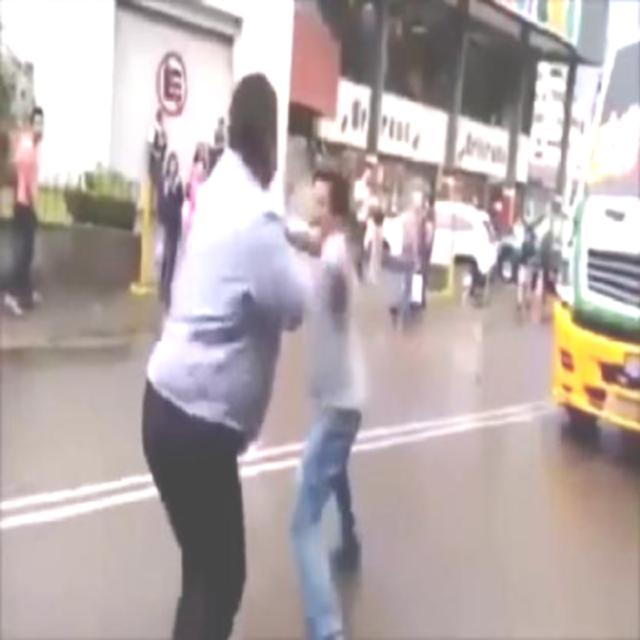fight: (136, 72, 370, 638)
